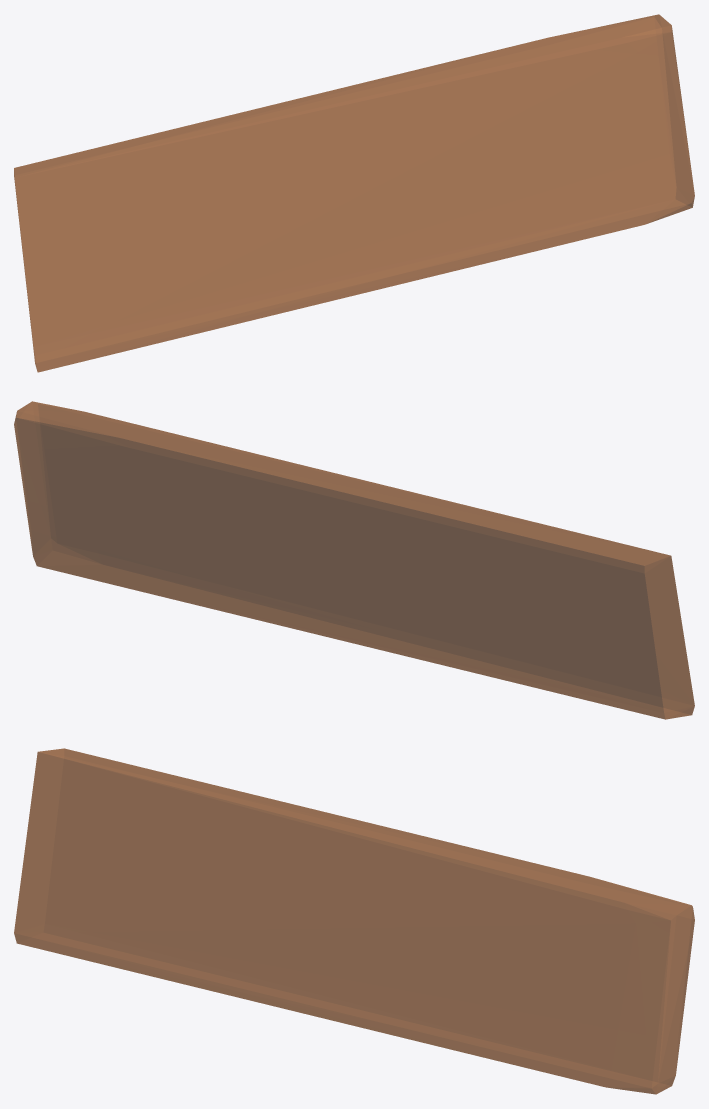
3 views of the same model, one above another, from view 1: azimuth 30°, elevation 25°; view 2: azimuth 150°, elevation 25°; view 3: azimuth 330°, elevation 25° (orthographic).
Visible parts, largest first — view 1: Shape_IndexedFaceSet.005_Shape_IndexedFaceSet.4678; view 2: Shape_IndexedFaceSet.005_Shape_IndexedFaceSet.4678; view 3: Shape_IndexedFaceSet.005_Shape_IndexedFaceSet.4678.
Boxes of the visible parts, bbox=[...] form: Shape_IndexedFaceSet.005_Shape_IndexedFaceSet.4678: bbox=[14, 14, 694, 372]; Shape_IndexedFaceSet.005_Shape_IndexedFaceSet.4678: bbox=[14, 401, 694, 719]; Shape_IndexedFaceSet.005_Shape_IndexedFaceSet.4678: bbox=[14, 748, 694, 1094].
Size of the model in its own units: 1.18 by 0.3066 by 0.1232.
